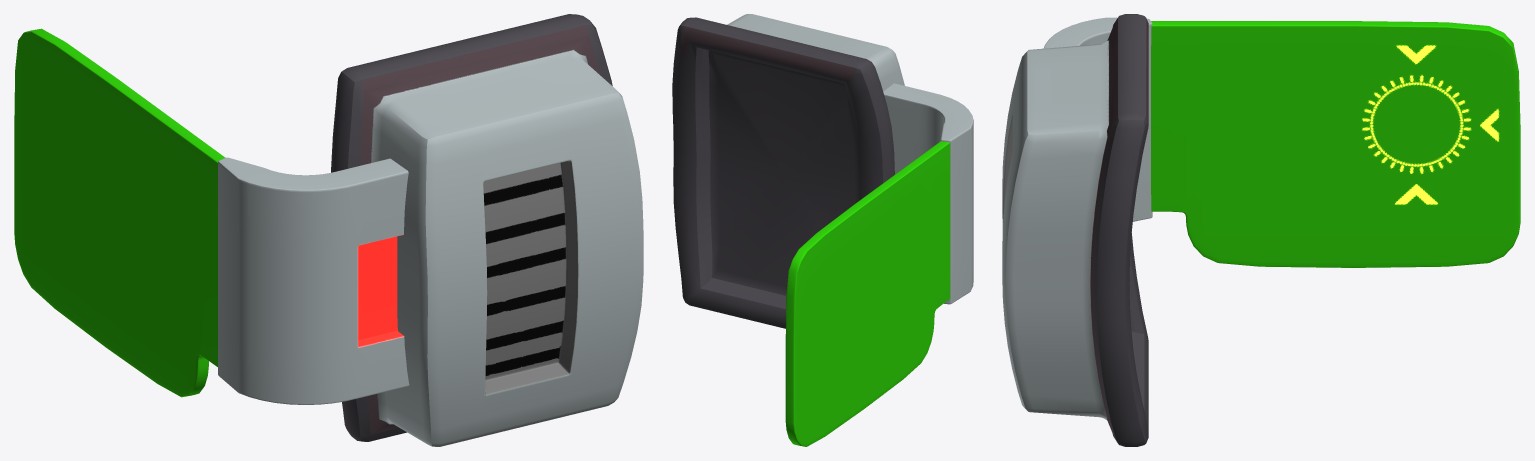
The model's file is scouter_dragon_ball_14e781.fbx.
The picture shows the model from 3 angles, left to right: view 1: azimuth 30°, elevation 25°; view 2: azimuth 150°, elevation 25°; view 3: azimuth 270°, elevation 25°; orthographic projection. The views are drawn at different scales.
Visible parts, largest first — view 1: scouter_dragon_ball_14e781; view 2: scouter_dragon_ball_14e781; view 3: scouter_dragon_ball_14e781.
Boxes of the visible parts, x1,y1,x2,y2 form: scouter_dragon_ball_14e781: (14, 14, 643, 446); scouter_dragon_ball_14e781: (672, 14, 973, 446); scouter_dragon_ball_14e781: (1002, 14, 1520, 446).
Size of the model in its own units: 2.16 by 2 by 2.8.
Materials: 2 (2 with a texture image).
